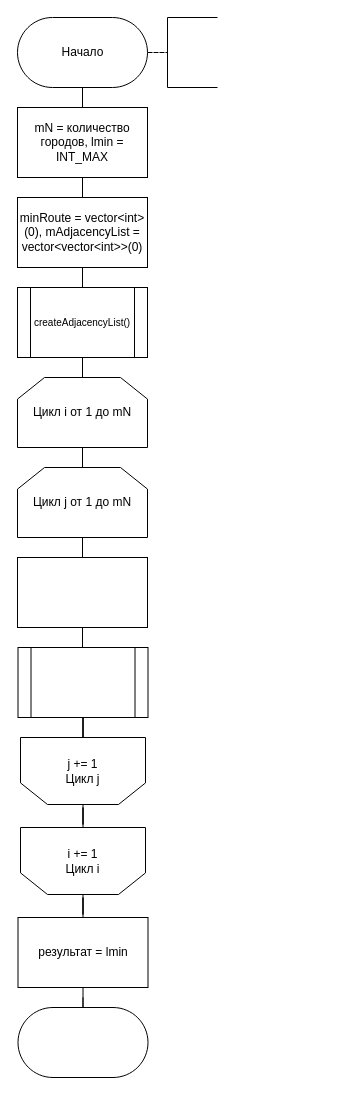
Some shapes in this 355 by 1095 pixel diagram are drawn without their labels. The shapes that lost their labels are listed below. From the top down, each one's centre as x and y in pixels, then its label:
[192,52]: getMinRoute( AdjacencyMatrix * mAmatrix )
[82,592]: b = vector<int>(0)
[82,682]: allPaths(i, j, b);
[82,1042]: Конец
